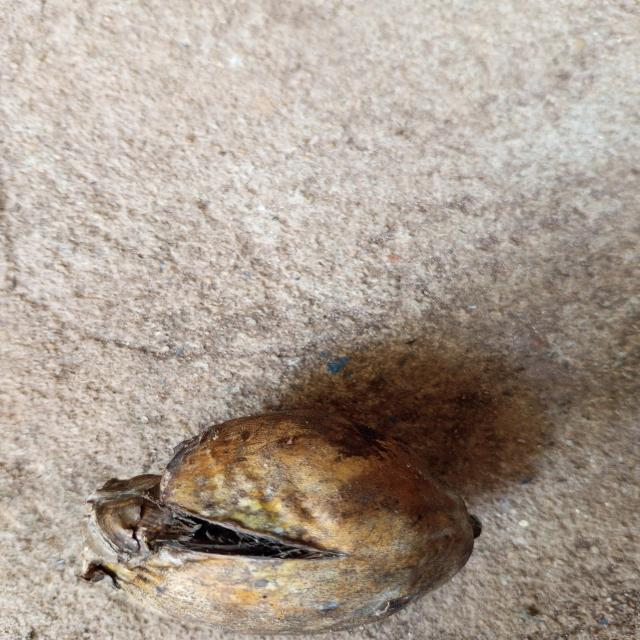damaged: (82, 411, 479, 634)
